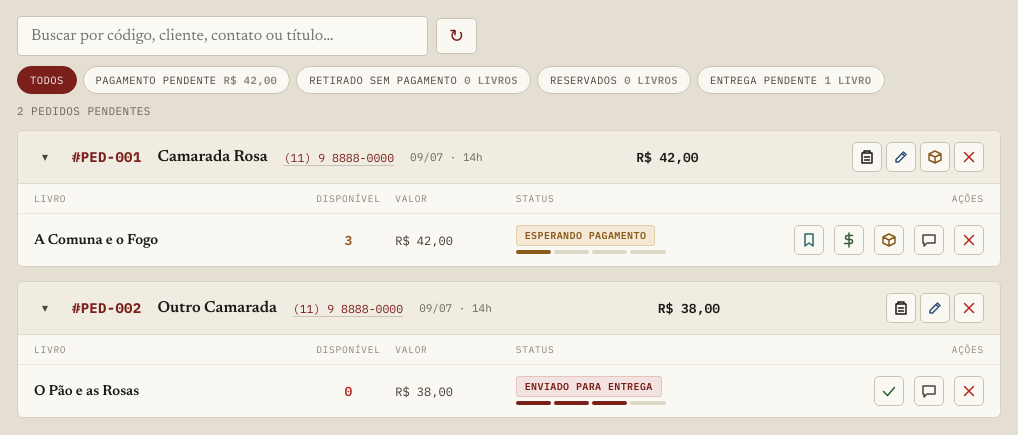
Backoffice — Pedidos (linhas por unidade) › chip filtra a fila pelo predicado da unidade
The width and height of the screenshot is (1018, 435).
Expected: the text "#PED-001" is shown, [72,148,142,166]
Click the button "Entrega pendente1 livro" at point(791, 80), box [697,66,884,94]
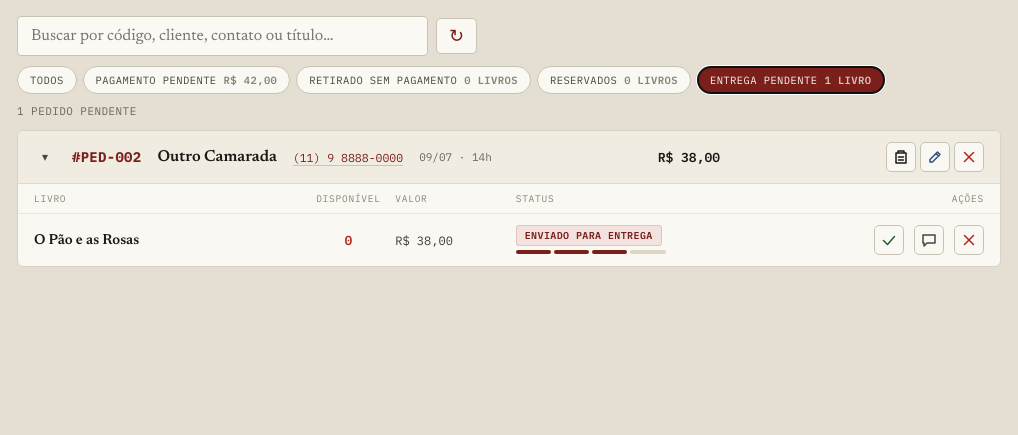
Expected: the text "#PED-002" is shown, [72,148,142,166]
Result: the text "#PED-001" is gone
Click the button "Todos" at point(47, 80), box [17,66,77,94]
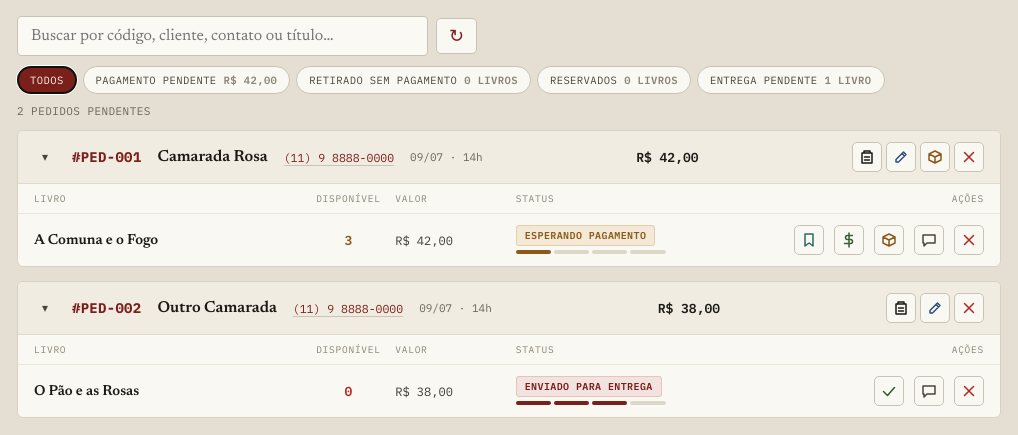
Result: the text "#PED-001" is shown at [72,148,142,166]
